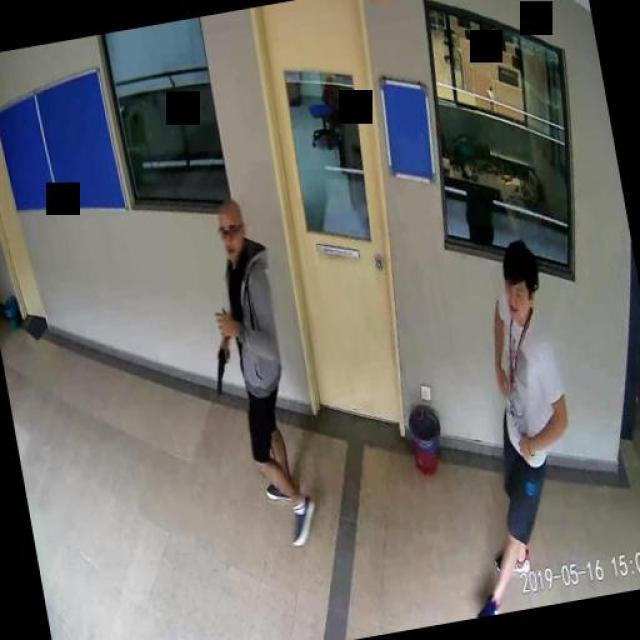gun: (209, 344, 235, 391)
